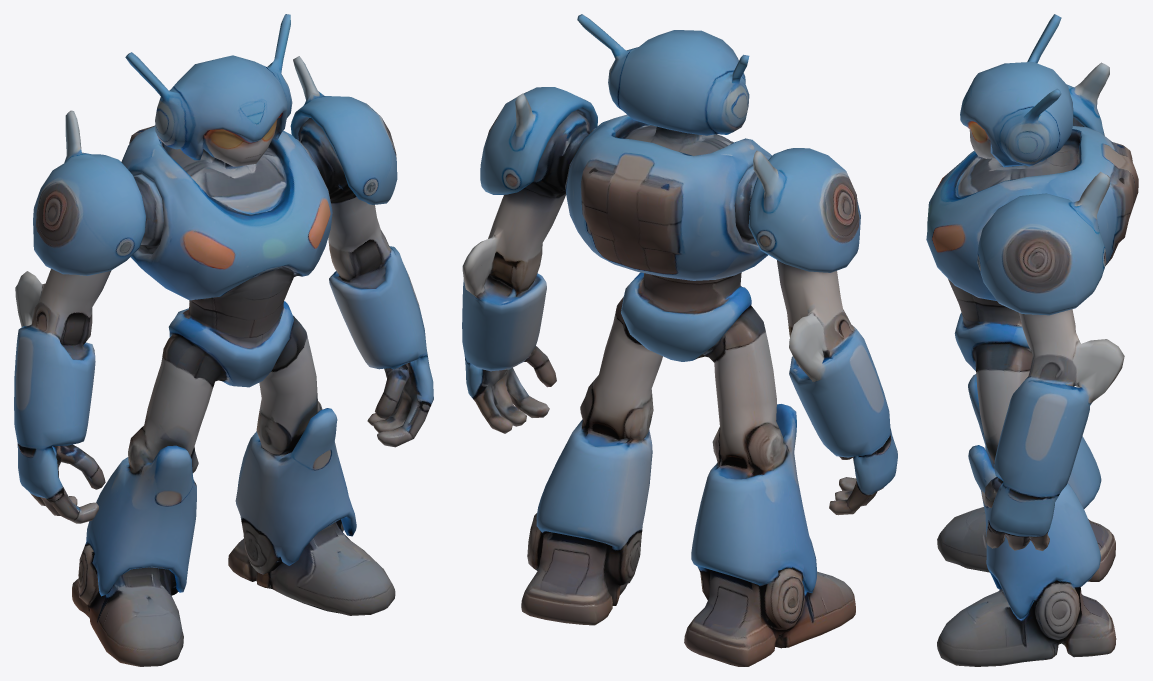
File: blaze_fighter.fbx
3 renders of one model, left to right at view 1: azimuth 30°, elevation 25°; view 2: azimuth 150°, elevation 25°; view 3: azimuth 270°, elevation 25°, orthographic. The views are drawn at different scales.
Visible parts, largest first — view 1: tripo_node_9411b053; view 2: tripo_node_9411b053; view 3: tripo_node_9411b053.
Part boxes in pixels (x1,y1,x2,y2): tripo_node_9411b053: (14, 14, 433, 666); tripo_node_9411b053: (462, 14, 897, 666); tripo_node_9411b053: (926, 14, 1138, 666).
Bounding box in the file's own units: 73.9 × 34.68 × 99.65.
Materials: 1 (1 with a texture image).
